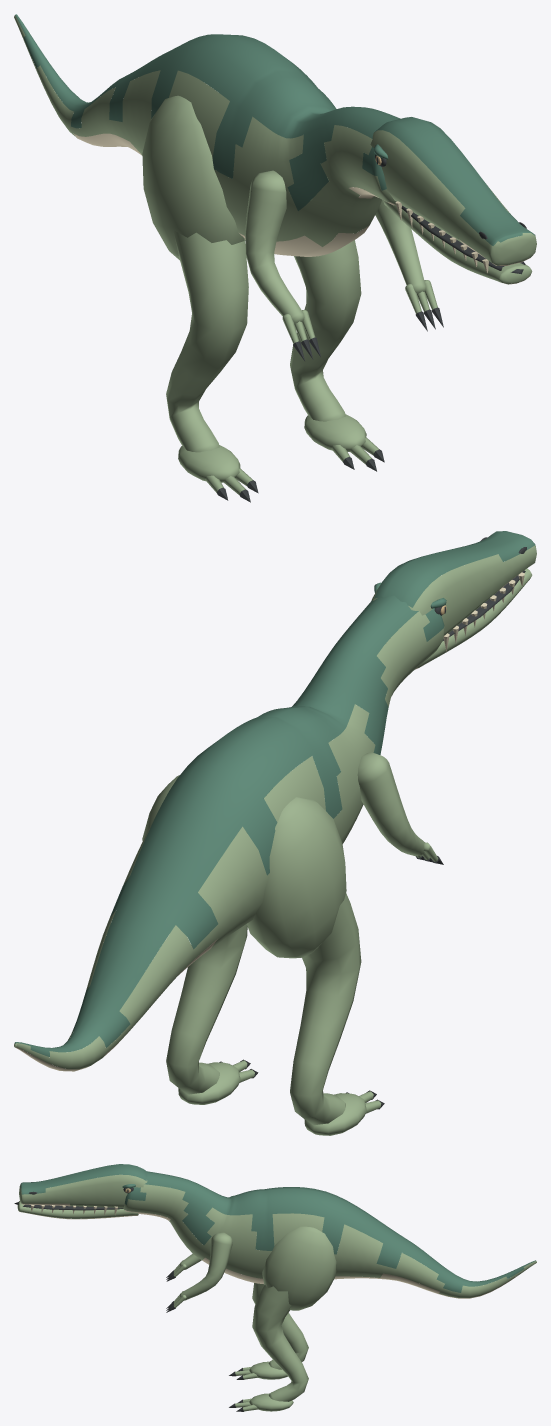
Rendered from baryonyx.glb.
3 renders of one model, top to bottom at view 1: azimuth 30°, elevation 25°; view 2: azimuth 150°, elevation 25°; view 3: azimuth 270°, elevation 25°, orthographic. The views are drawn at different scales.
Parts seen in each view (by area): view 1: baryonyx; view 2: baryonyx; view 3: baryonyx.
Part boxes in pixels (x1,y1,x2,y2): baryonyx: (14,14,536,502); baryonyx: (14,531,536,1135); baryonyx: (14,1164,536,1411).
Bounding box in the file's own units: 1.56 × 3.67 × 7.65.
